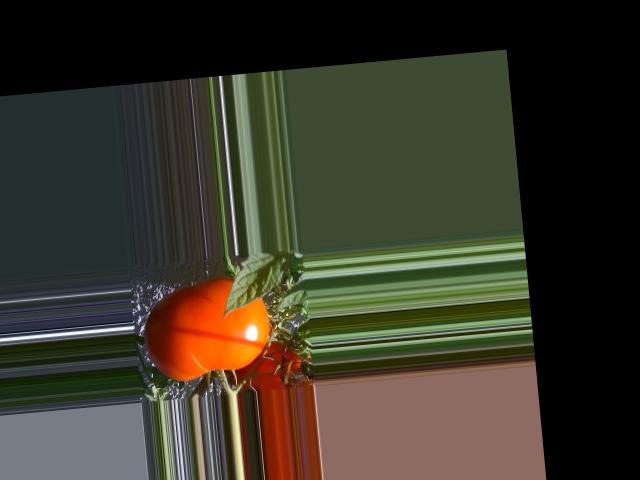tomato: (140, 273, 274, 384)
